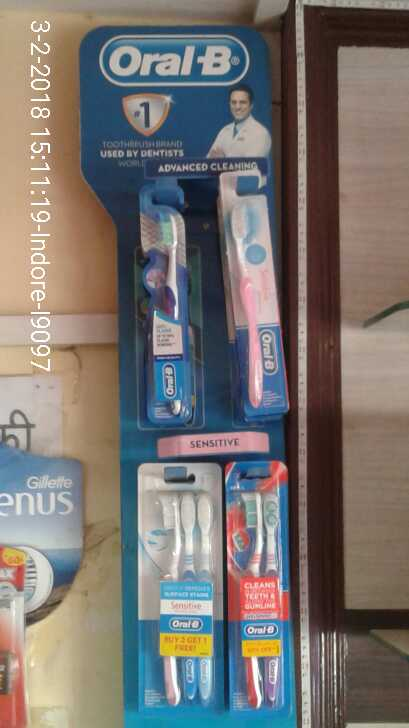oralb: (137, 461, 228, 706), (224, 462, 293, 707), (218, 183, 288, 417), (140, 199, 199, 425)
